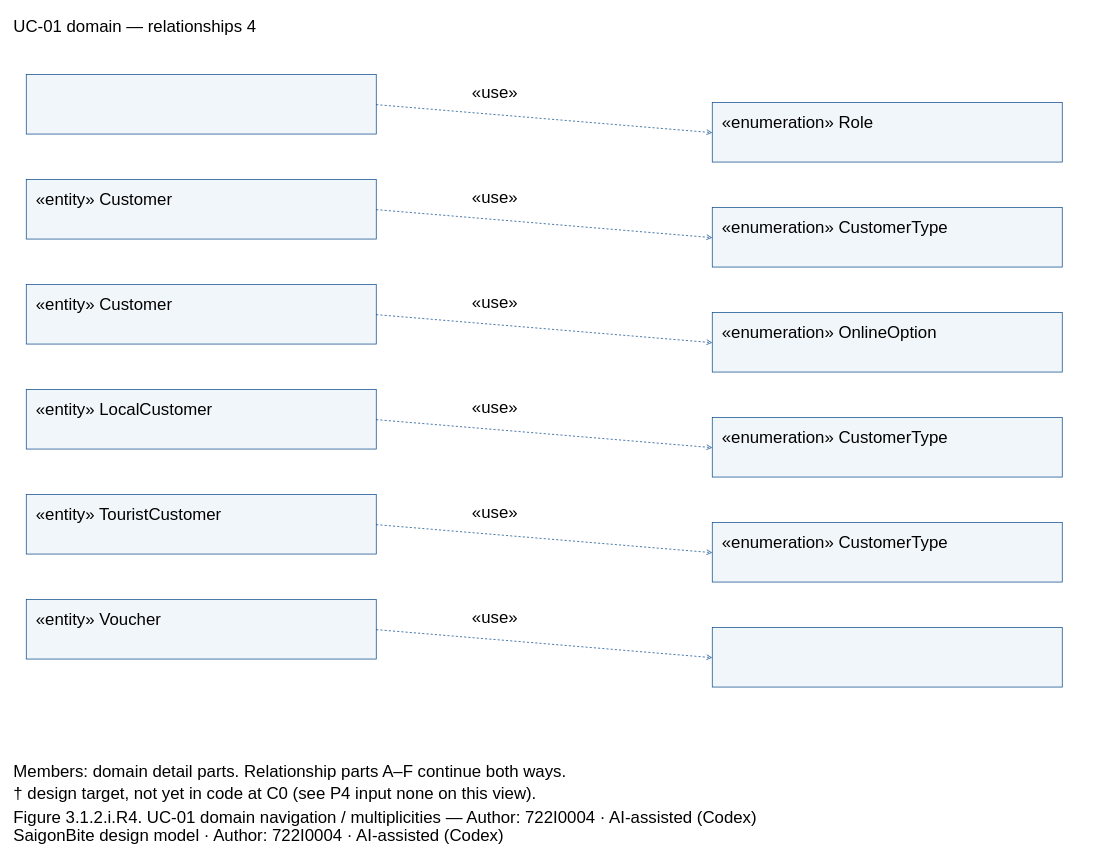
Some shapes in this 1095 by 858 pixel diagram are drawn without their labels. The centre of each missing label's shape, as x and y in pixels:
«entity» UserAccount: (x=201, y=104)
«enumeration» DiscountType: (x=887, y=657)
